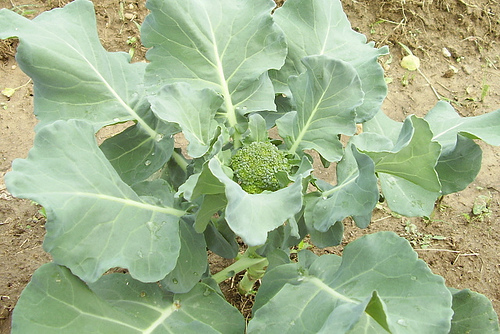broccoli: (229, 142, 287, 193)
